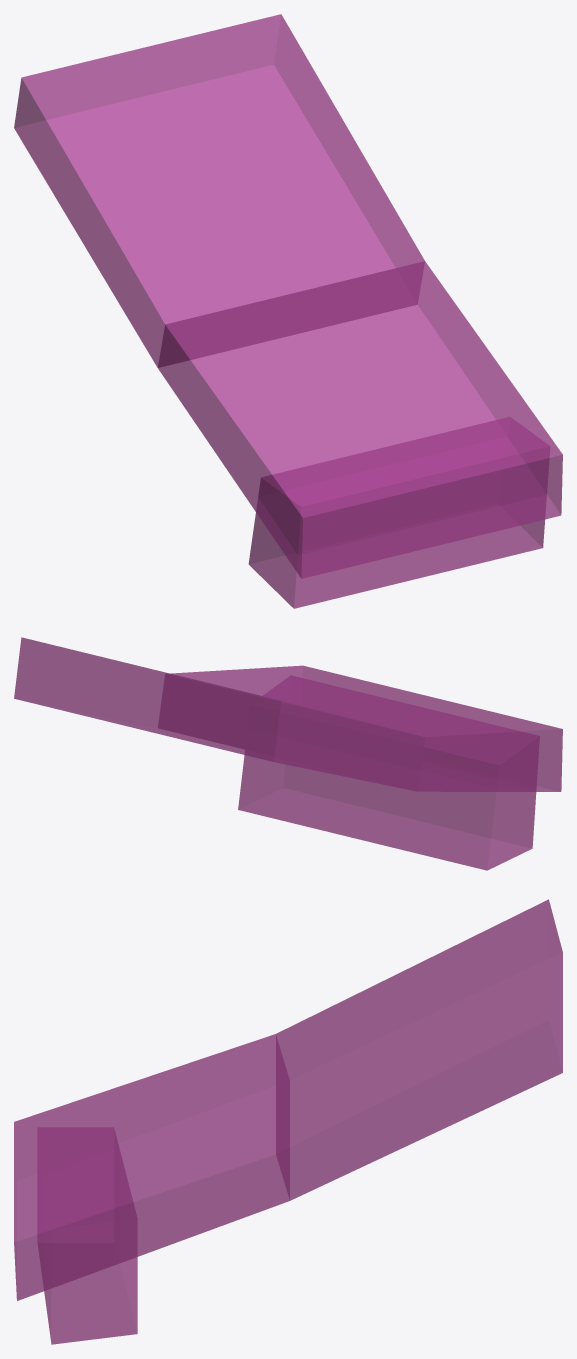
The model's file is SM_Bld_Roof_Edge_Half_01_Collision_01.fbx.
3 views of the same model, one above another, from view 1: azimuth 30°, elevation 25°; view 2: azimuth 150°, elevation 25°; view 3: azimuth 270°, elevation 25° (orthographic). The views are drawn at different scales.
Visible parts, largest first — view 1: SM_Bld_Roof_Edge_Half_01_Collision_01; view 2: SM_Bld_Roof_Edge_Half_01_Collision_01; view 3: SM_Bld_Roof_Edge_Half_01_Collision_01.
Part boxes in pixels (box(x1,y1,x2,y2)): SM_Bld_Roof_Edge_Half_01_Collision_01: box(14, 14, 562, 608); SM_Bld_Roof_Edge_Half_01_Collision_01: box(14, 637, 562, 870); SM_Bld_Roof_Edge_Half_01_Collision_01: box(14, 899, 562, 1344).
Bounding box in the file's own units: 132 × 166 × 254.
